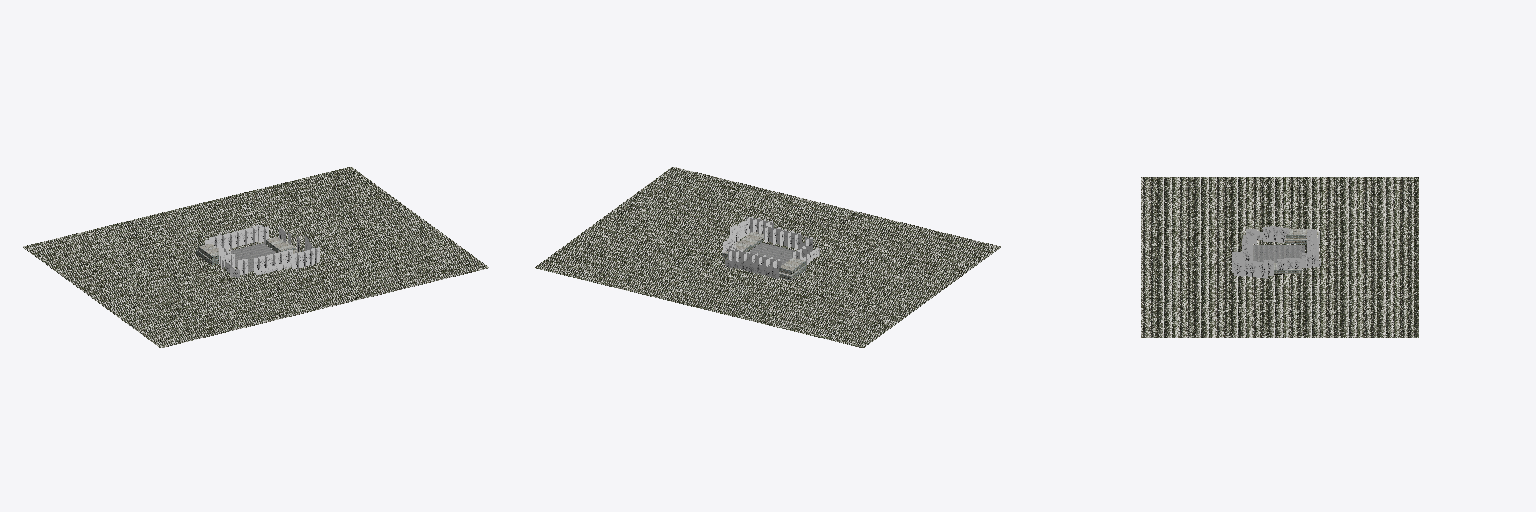
3 renders of one model, left to right at view 1: azimuth 30°, elevation 25°; view 2: azimuth 150°, elevation 25°; view 3: azimuth 270°, elevation 25°, orthographic.
Visible parts, largest first — view 1: Plane730, Plane726; view 2: Plane730; view 3: Plane730, Plane726.
Boxes of the visible parts, <box> form: Plane730: <box>23,167,488,347</box>; Plane726: <box>231,243,275,271</box>; Plane730: <box>535,167,1000,347</box>; Plane730: <box>1141,177,1418,337</box>; Plane726: <box>1253,245,1304,262</box>.
Size of the model in its own units: 1025 by 82.23 by 748.
7 materials, 6 textured.